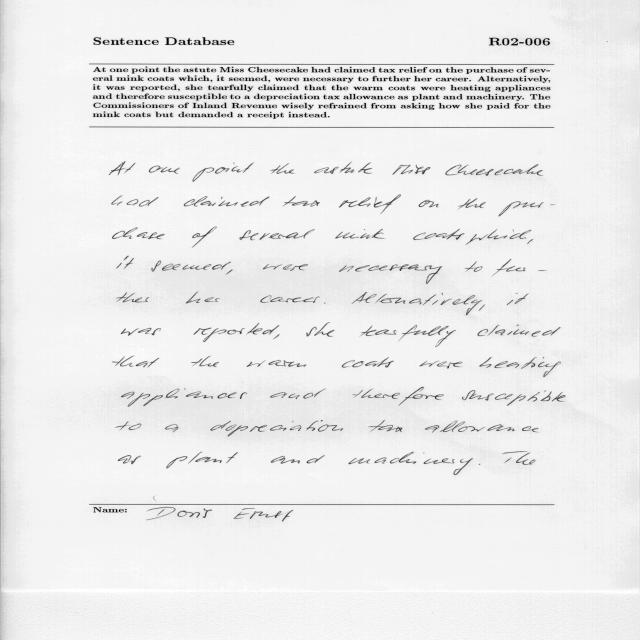word: (352, 292, 482, 315), (348, 452, 473, 475), (122, 388, 247, 407), (211, 420, 343, 437), (361, 325, 456, 347), (339, 264, 442, 284), (352, 387, 444, 406), (462, 390, 566, 406), (479, 357, 561, 377), (194, 323, 279, 342), (425, 421, 538, 433), (192, 162, 254, 182), (339, 195, 401, 214), (445, 164, 543, 176), (166, 452, 238, 468), (466, 229, 532, 245), (478, 325, 561, 337), (184, 196, 269, 207), (492, 259, 546, 276), (151, 261, 231, 272), (498, 202, 555, 217), (240, 229, 315, 240), (314, 162, 372, 174), (113, 228, 165, 239), (342, 357, 394, 368), (414, 229, 465, 240), (270, 389, 326, 399), (192, 227, 217, 248), (112, 196, 158, 207), (113, 356, 159, 367), (335, 229, 385, 239), (271, 455, 325, 464), (260, 295, 320, 303), (503, 451, 536, 465), (247, 360, 307, 367), (368, 420, 402, 432), (283, 196, 320, 207), (306, 323, 335, 337), (393, 165, 431, 175), (109, 162, 136, 176), (186, 292, 220, 303), (420, 361, 463, 369), (458, 198, 486, 210), (117, 293, 149, 303), (121, 328, 161, 336), (263, 264, 308, 271), (191, 356, 219, 367), (271, 163, 295, 174), (507, 293, 528, 305), (149, 166, 180, 174), (116, 422, 142, 431), (117, 256, 134, 269), (118, 455, 141, 464), (465, 261, 483, 272), (419, 200, 439, 207), (165, 424, 179, 432), (225, 269, 233, 275), (479, 304, 485, 311), (527, 239, 533, 244), (274, 334, 280, 339), (324, 303, 326, 304), (479, 464, 480, 465)
